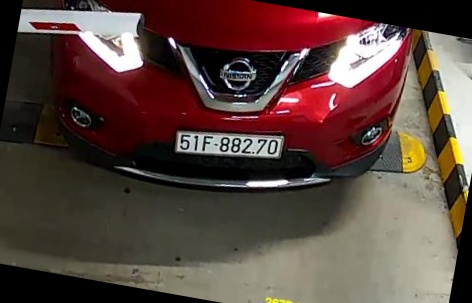plate: (171, 125, 284, 163)
